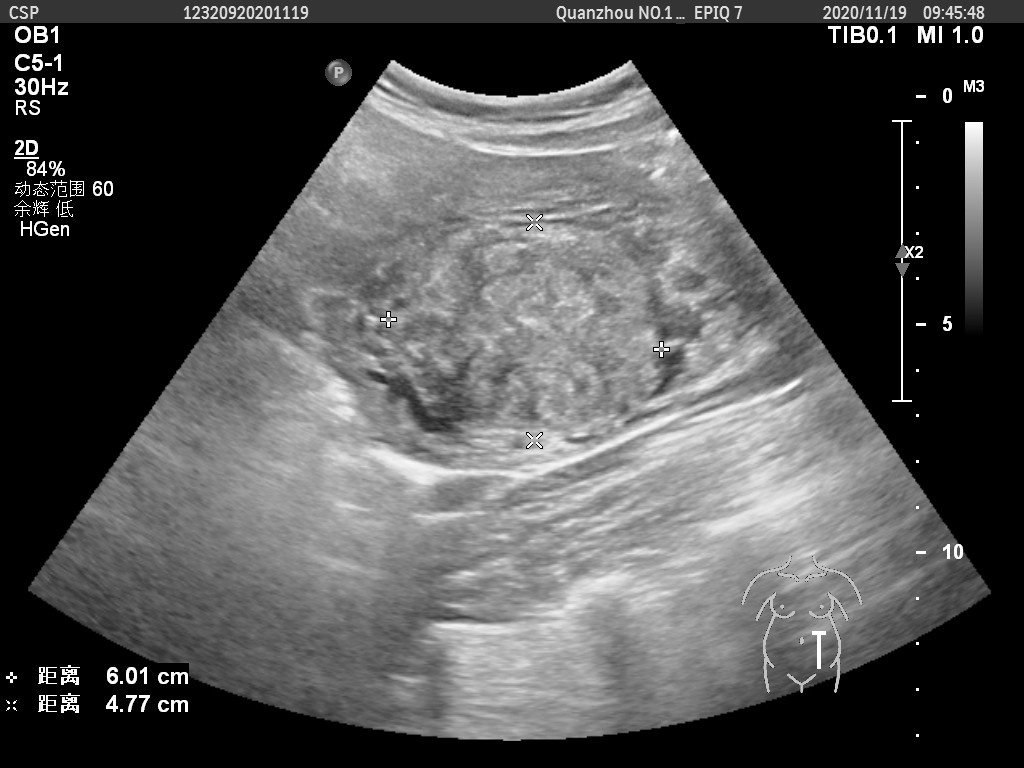肌瘤: (390, 222, 665, 442)
